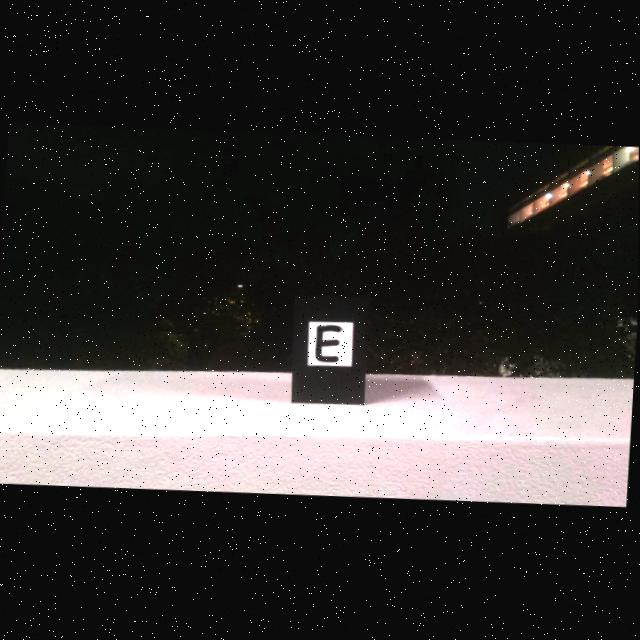E: (317, 327, 342, 363)
